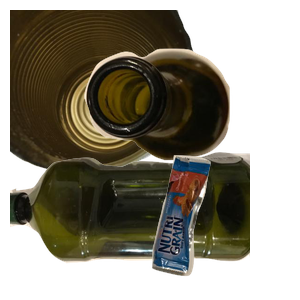glass: (82, 46, 300, 199)
metal: (10, 10, 200, 180)
plastic: (10, 149, 250, 300)
trash: (149, 152, 300, 300)
